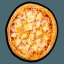pizza: (6, 2, 59, 61)
